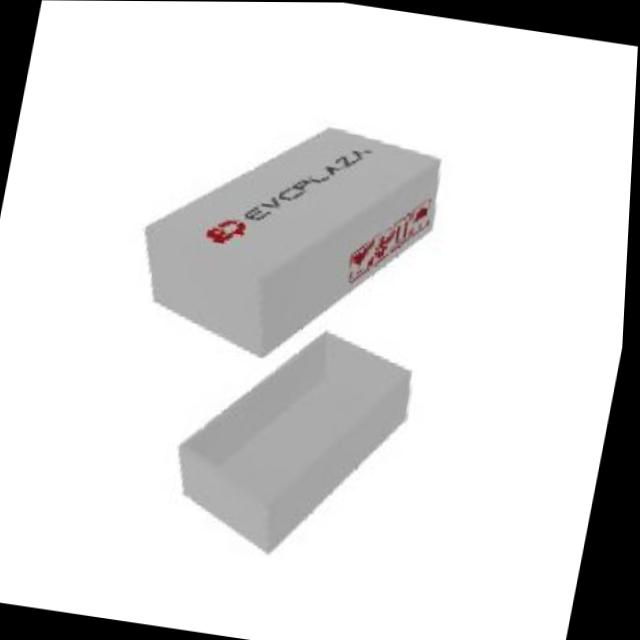box: (82, 71, 496, 594)
